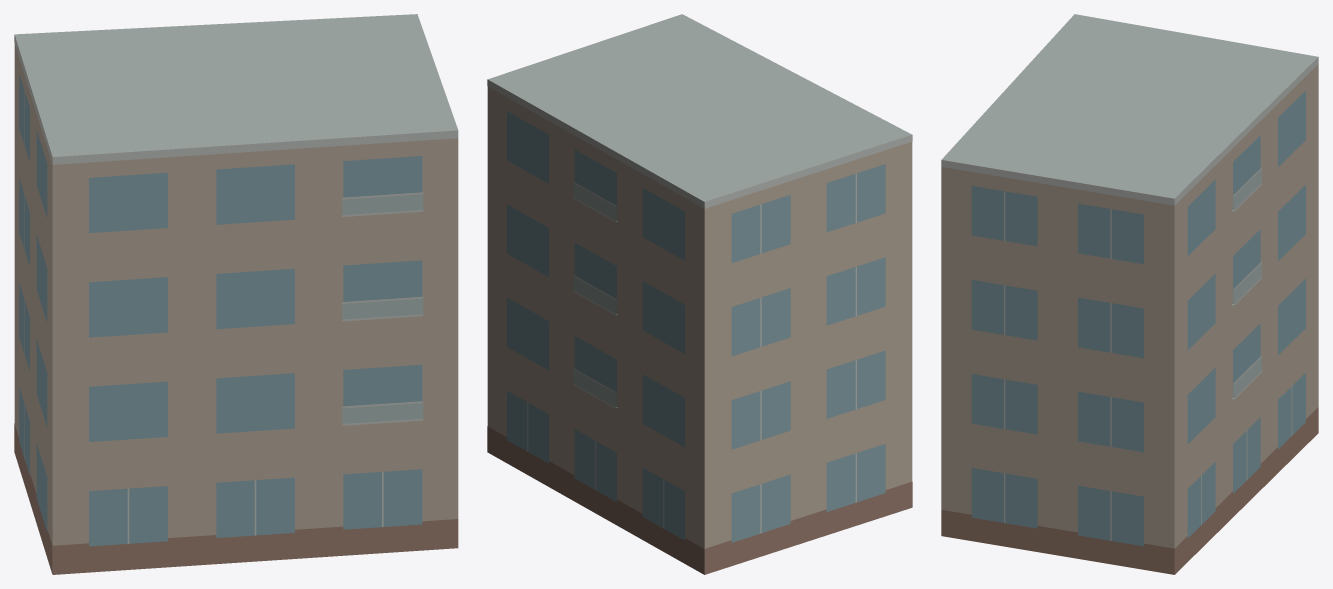
File: survey-upis-32622659.glb
3 views of the same model, side by side, from view 1: azimuth 30°, elevation 25°; view 2: azimuth 150°, elevation 25°; view 3: azimuth 270°, elevation 25° (orthographic). The views are drawn at different scales.
Parts seen in each view (by area): view 1: survey-upis-32622659.tmp; view 2: survey-upis-32622659.tmp; view 3: survey-upis-32622659.tmp.
Boxes of the visible parts, <box> form: survey-upis-32622659.tmp: <box>14,14,458,574</box>; survey-upis-32622659.tmp: <box>487,14,912,574</box>; survey-upis-32622659.tmp: <box>941,14,1318,574</box>.
Bounding box in the file's own units: 13.86 × 13.15 × 11.97.
